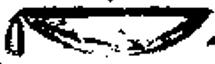Basket: (3, 5, 214, 59)
